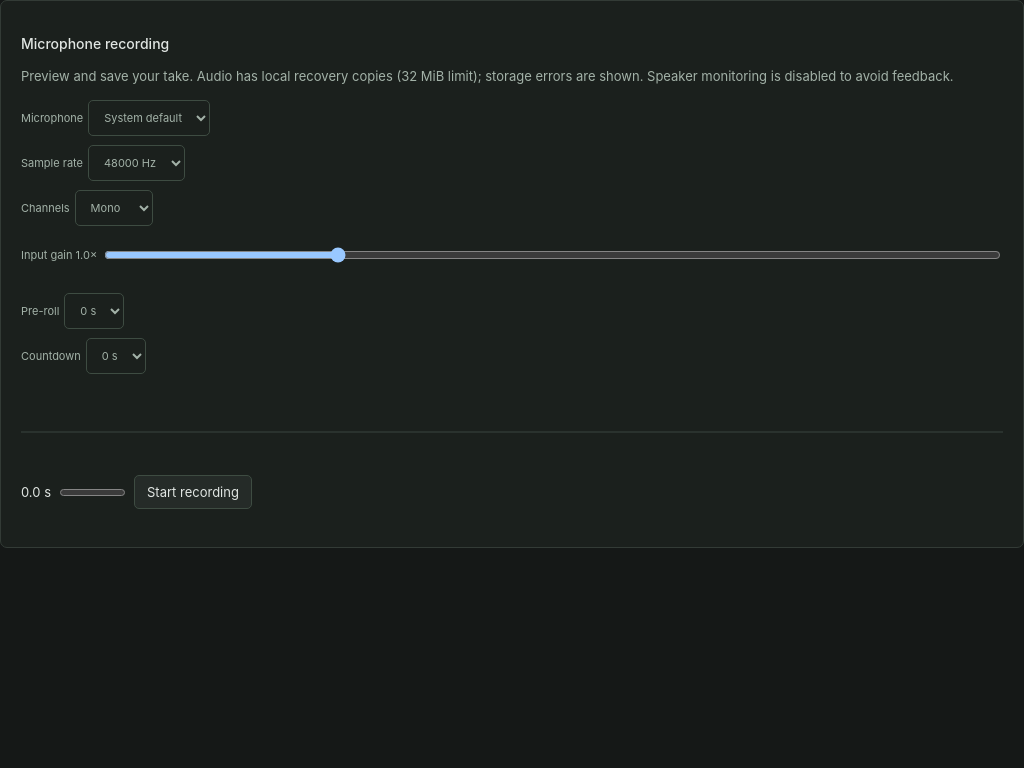
reports denied permission and releases resources on unmount
Click the button "Start recording" at [193, 492], box [134,475,252,509]
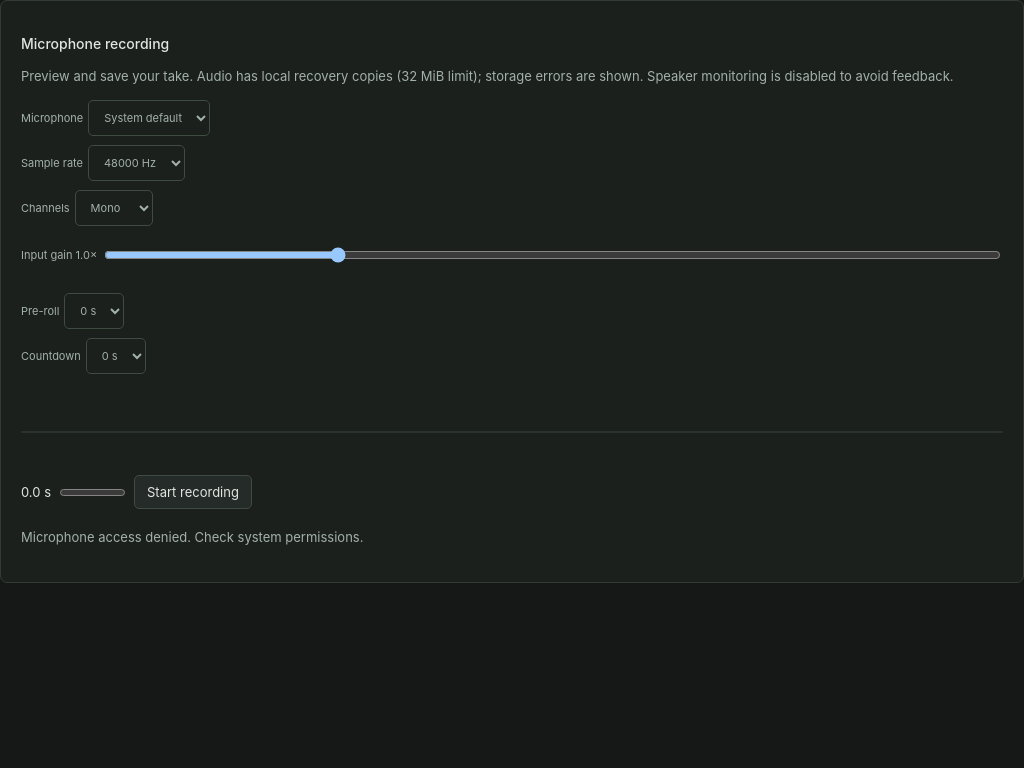
Now the message shows "access denied", box [21,529,364,545]
